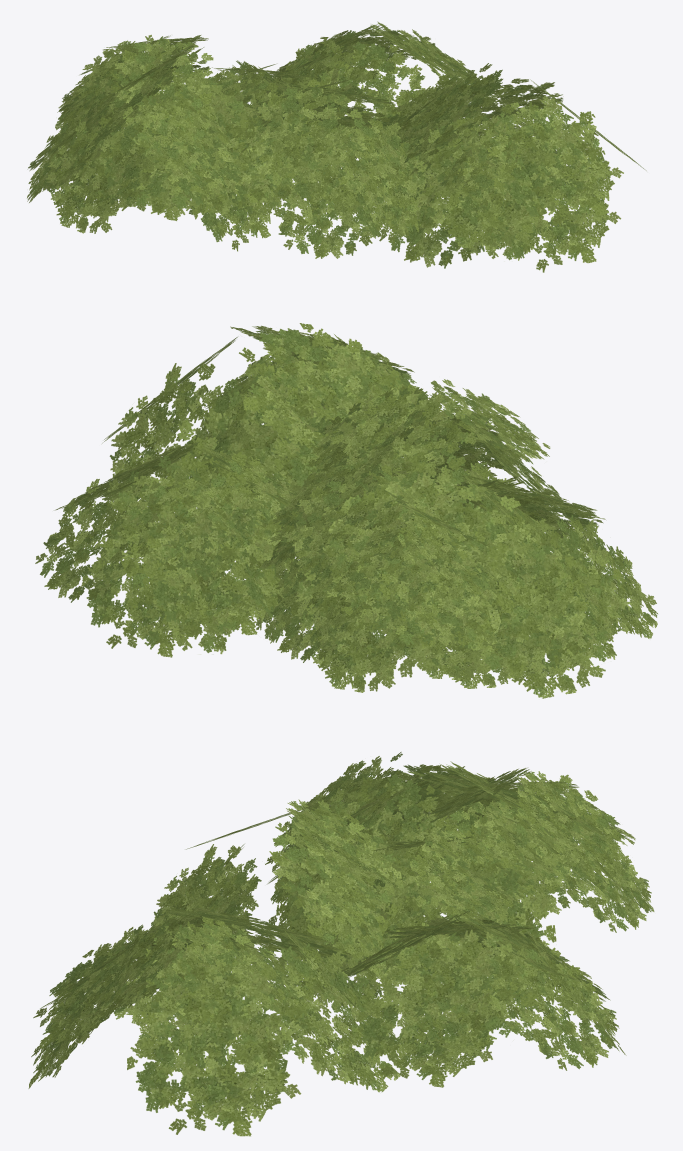
The picture shows the model from 3 angles, top to bottom: view 1: azimuth 30°, elevation 25°; view 2: azimuth 150°, elevation 25°; view 3: azimuth 270°, elevation 25°; orthographic projection. The views are drawn at different scales.
Parts seen in each view (by area): view 1: mat_l_lod0_0; view 2: mat_l_lod0_0; view 3: mat_l_lod0_0.
Part boxes in pixels (x1=…): mat_l_lod0_0: x1=27, y1=21, x2=646, y2=272; mat_l_lod0_0: x1=35, y1=323, x2=657, y2=698; mat_l_lod0_0: x1=28, y1=752, x2=654, y2=1136.
Size of what is drawn, in the model's own units: 4.16 by 1.18 by 3.7.
1 material, 1 textured.
